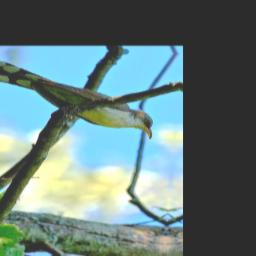Cuckoo: (0, 61, 159, 140)
